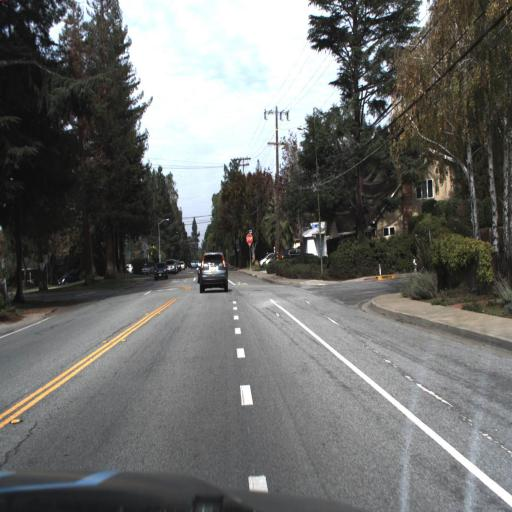car: (197, 251, 230, 295), (54, 267, 87, 286), (277, 243, 306, 262), (56, 266, 81, 285), (152, 260, 170, 285), (165, 257, 178, 277)
